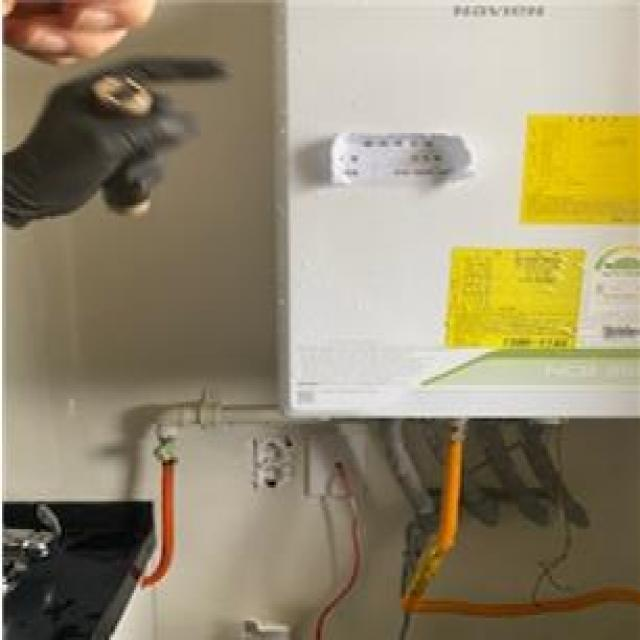Boiler: (252, 0, 640, 444)
